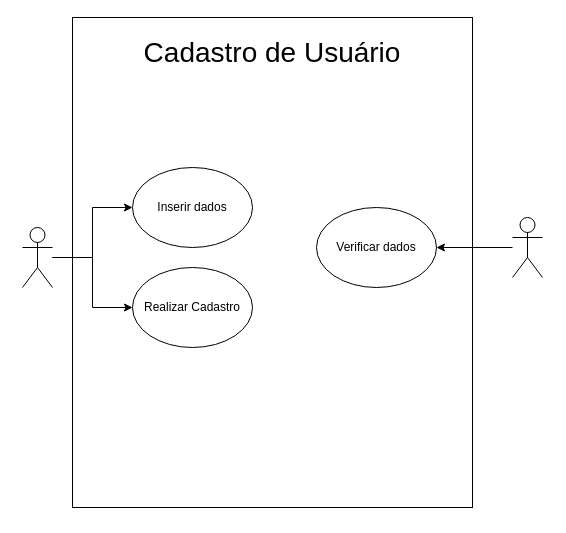
The diagram is 566 pixels wide and 533 high, and some of its shapes have lost their labels. Here are the shapes that lost their labels. From the top down, the box of each, then its label:
(22, 226, 52, 288): Usuário
(512, 216, 542, 278): Sistema
